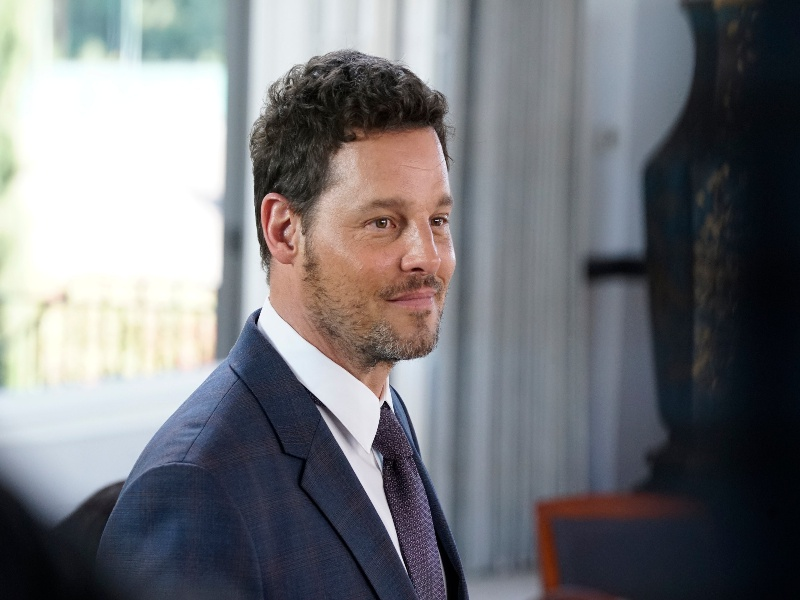TsisyArotava: (296, 101, 476, 376)
